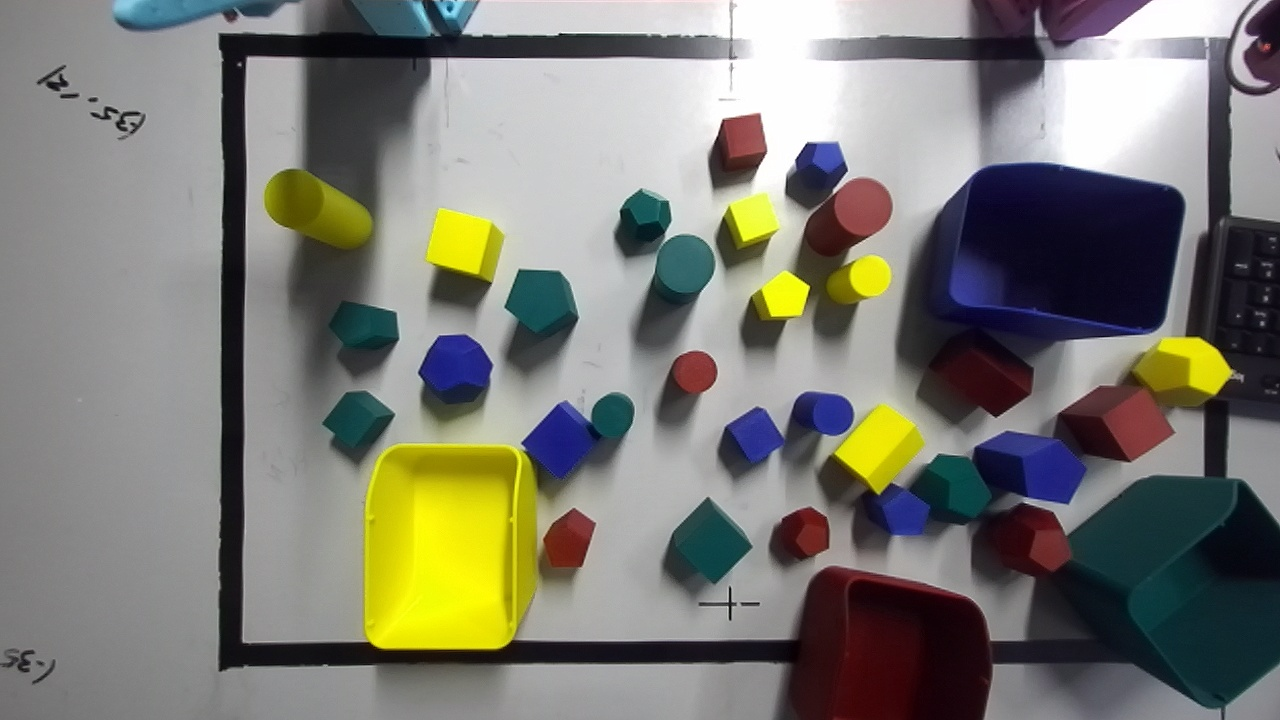bin: (1052, 476, 1279, 707), (927, 163, 1184, 340), (364, 444, 537, 649), (789, 566, 991, 719)
cube: (1059, 385, 1174, 460), (670, 497, 751, 582), (522, 401, 598, 478), (425, 209, 503, 282), (322, 391, 393, 448), (725, 407, 784, 463), (723, 193, 779, 248), (715, 113, 766, 171)
cylinder: (263, 169, 372, 248), (804, 177, 892, 256), (652, 234, 714, 303), (826, 255, 890, 303), (790, 391, 853, 435), (670, 350, 717, 393), (591, 392, 634, 437)
dodecahedron: (1131, 337, 1231, 406), (987, 503, 1070, 575), (910, 454, 991, 523), (418, 334, 492, 403), (620, 188, 670, 241), (779, 507, 829, 559), (796, 142, 847, 188)
hexagonal: (928, 329, 1033, 416), (831, 404, 923, 493), (973, 431, 1086, 503), (504, 269, 578, 336), (860, 483, 929, 535), (329, 302, 398, 348), (543, 508, 595, 567), (751, 271, 809, 320)
